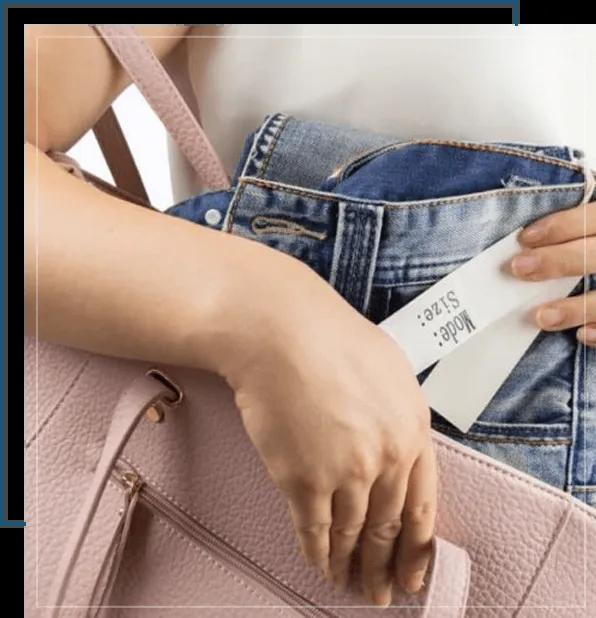shoplifting: (41, 23, 596, 609)
